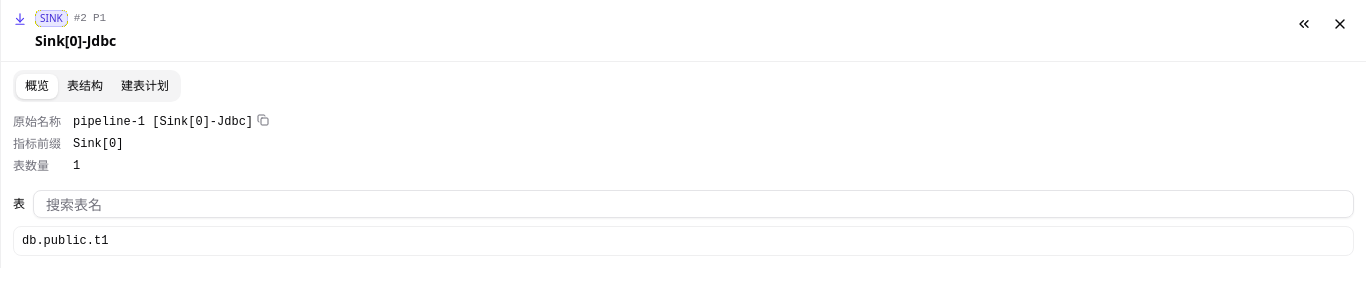
Test: DagNodeDrawer › marks the selected schema / plan tab active and only renders hints that have content
# Radix Tabs 在 mousedown 时切换 / Radix Tabs switches on mousedown
Press the mouse on the tab with test id "dag-node-tab-schema" at (85, 86), box [58, 74, 112, 98]
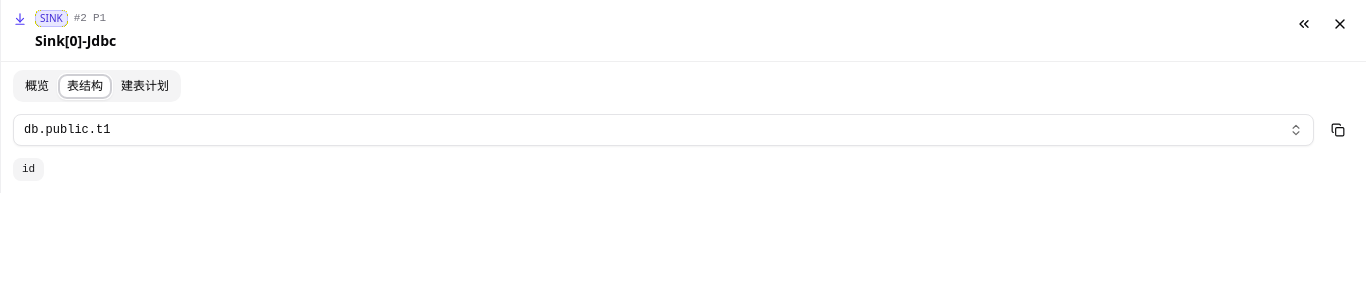
Expected: the tab with test id "dag-node-tab-schema" has attribute data-state="active", [58, 74, 112, 98]
Press the mouse on the tab with test id "dag-node-tab-plan" at (145, 86), box [112, 74, 178, 98]
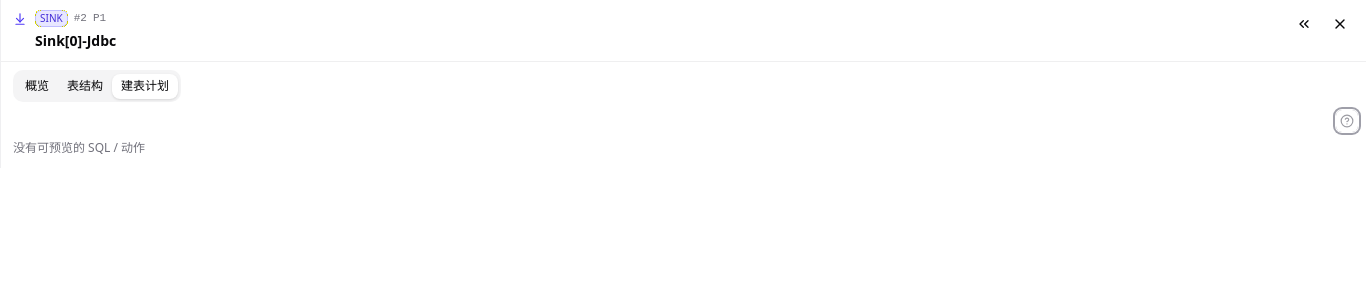
Expected: the tab with test id "dag-node-tab-schema" has attribute data-state="inactive", [58, 74, 112, 98]
Focus the button with test id "dag-node-plan-hint" at (1347, 121), box [1336, 110, 1358, 132]
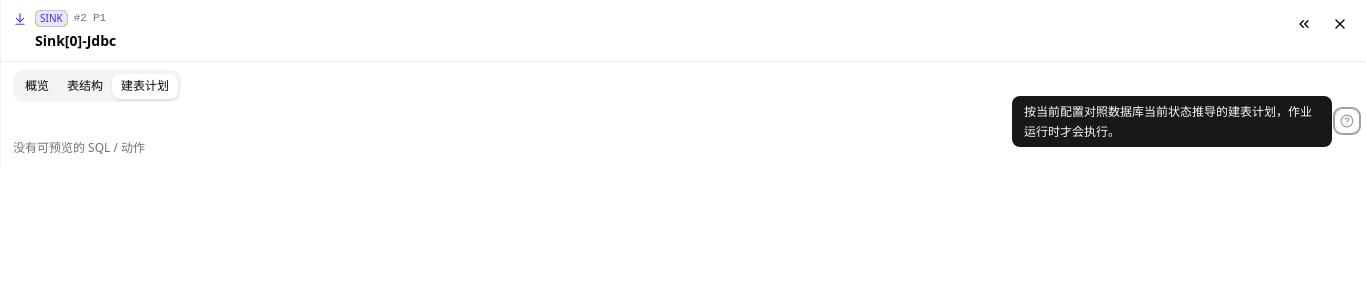
Expected: the tooltip reads "按当前配置对照数据库当前状态推导的建表计划，作业运行时才会执行。", [1024, 103, 1312, 140]
